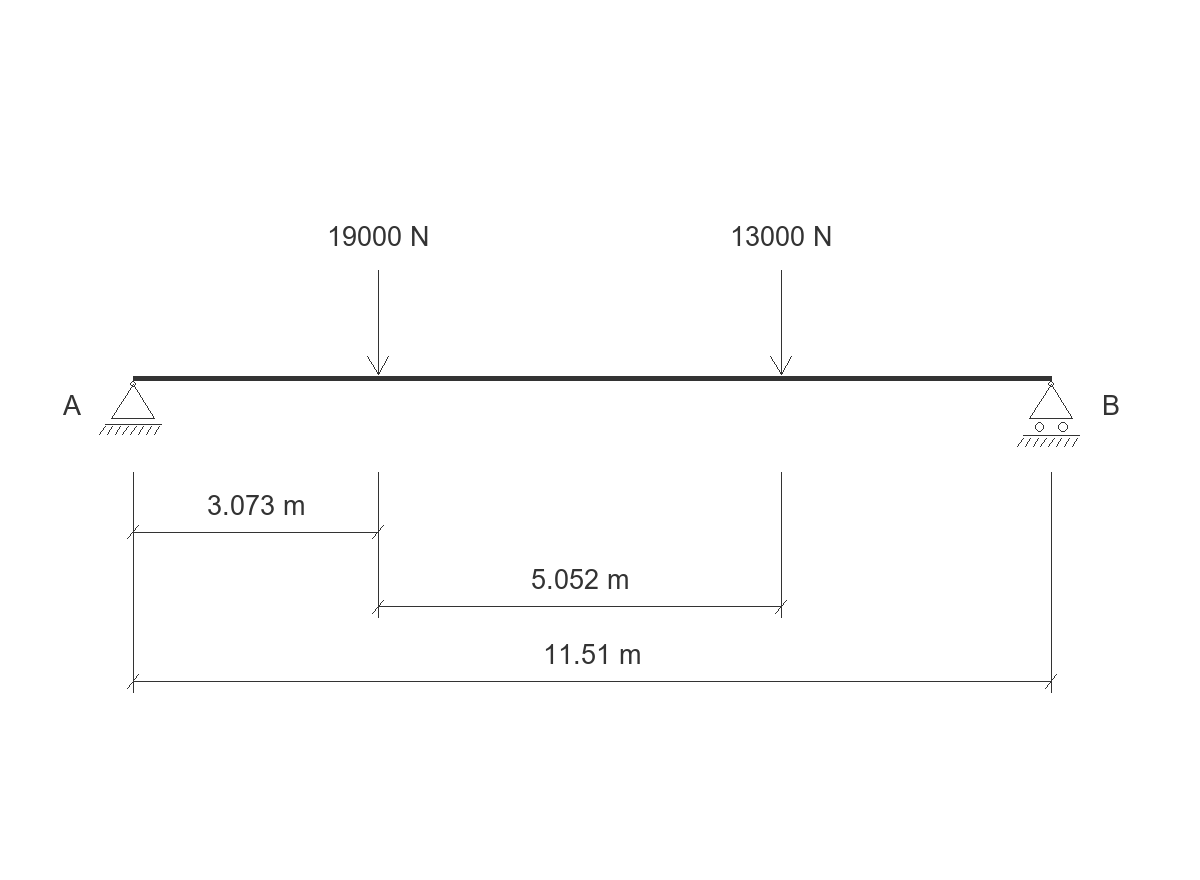pin_support: (99, 381, 162, 435)
point_load: (367, 270, 389, 375), (770, 270, 792, 375)
roller_support: (1017, 381, 1080, 447)
